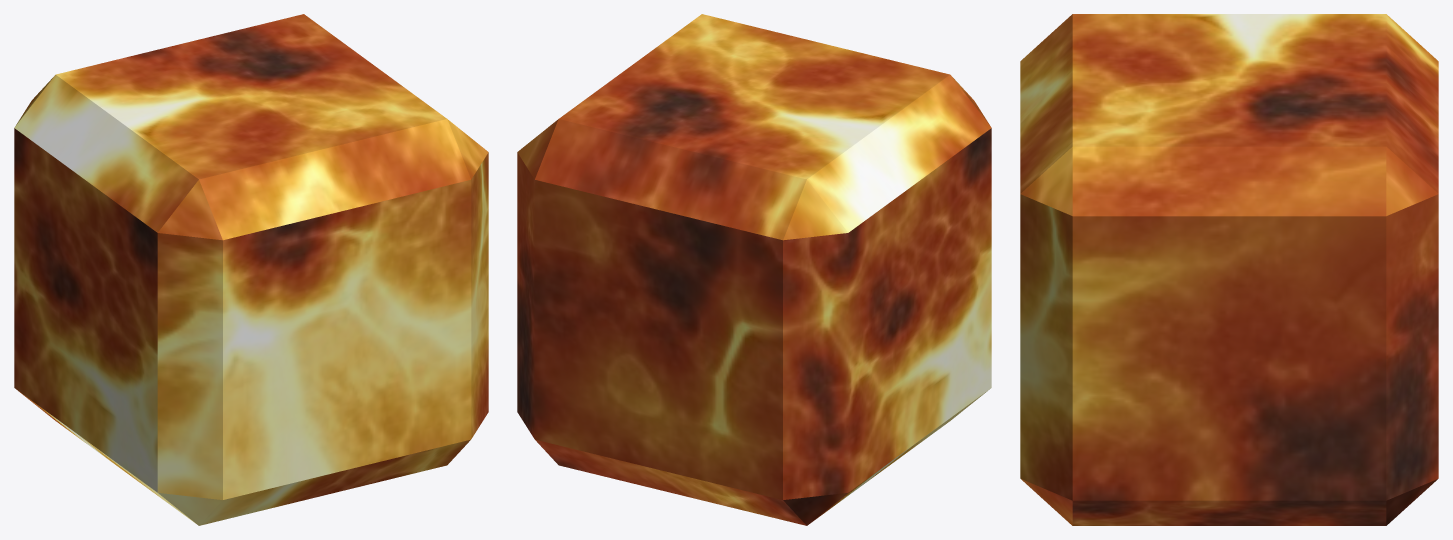
Rendered from explosion.glb.
3 views of the same model, side by side, from view 1: azimuth 30°, elevation 25°; view 2: azimuth 150°, elevation 25°; view 3: azimuth 270°, elevation 25° (orthographic). The views are drawn at different scales.
Parts seen in each view (by area): view 1: Cube; view 2: Cube; view 3: Cube.
Part boxes in pixels (x1,y1,x2,y2): Cube: (14, 14, 488, 525); Cube: (517, 14, 991, 525); Cube: (1020, 14, 1438, 525).
Size of the model in its own units: 2 by 2 by 2.
1 material, 1 textured.
